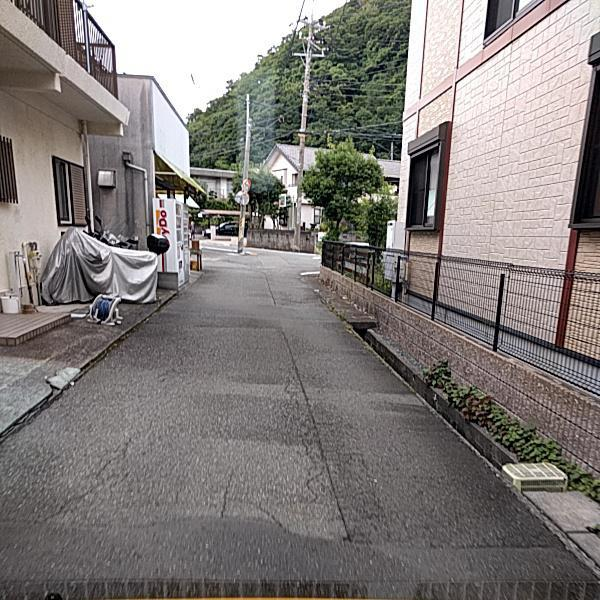D00: (50, 411, 148, 525), (228, 491, 284, 525), (296, 441, 324, 505), (216, 466, 236, 516)
